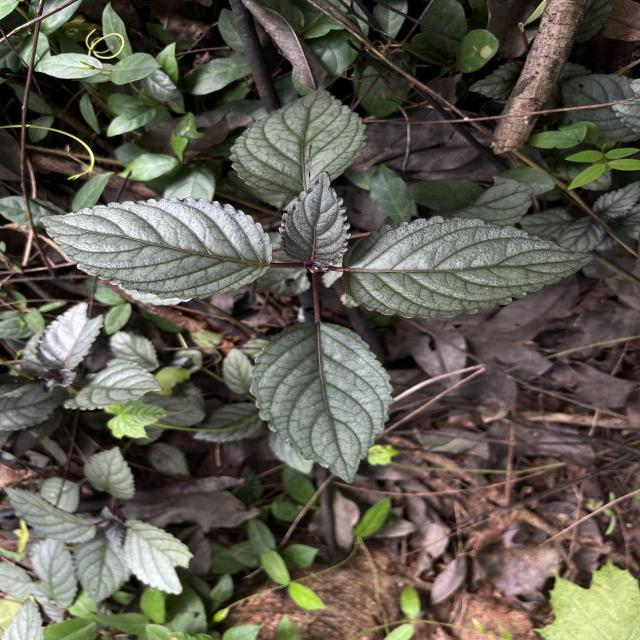Hemigraphis colorata: (338, 213, 602, 323), (242, 318, 398, 488), (36, 194, 275, 304), (225, 83, 373, 199), (275, 169, 354, 271), (58, 354, 166, 414), (1, 483, 102, 546)
